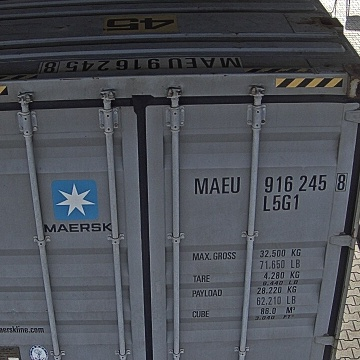serial_id: (194, 174, 346, 194)
